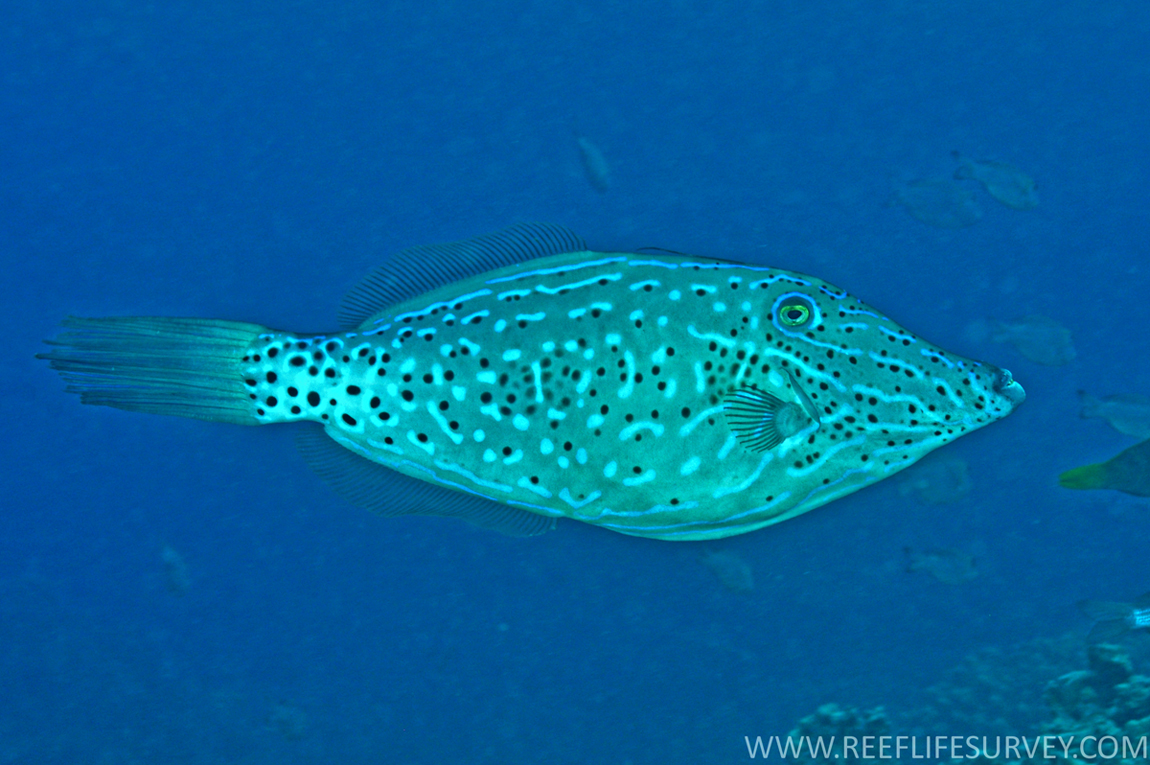Aluterus_scriptus: (30, 220, 1041, 557)
